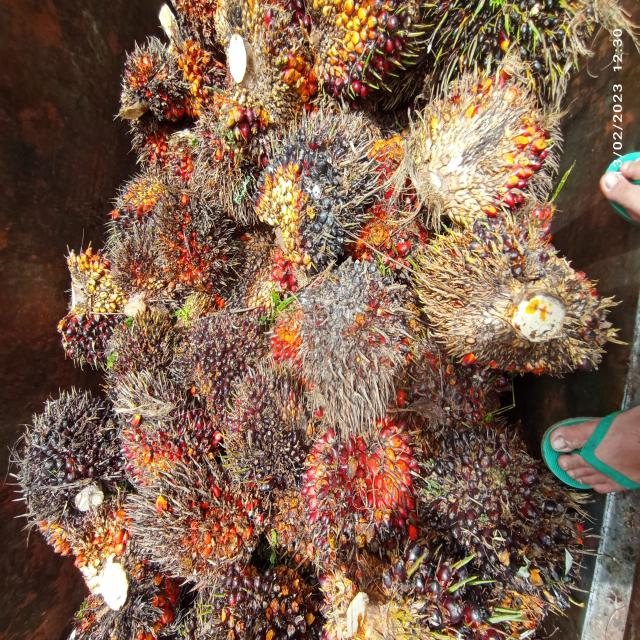fraksi 00: (423, 414, 551, 582), (240, 136, 366, 283), (13, 395, 115, 528)
fraksi 1: (215, 364, 317, 483), (50, 231, 123, 379), (176, 302, 260, 416)
fraksi 3: (302, 419, 429, 577), (112, 397, 204, 498)
fraksi 4: (119, 465, 285, 588), (284, 268, 414, 425), (93, 19, 226, 140), (159, 186, 236, 293), (111, 228, 166, 295)
